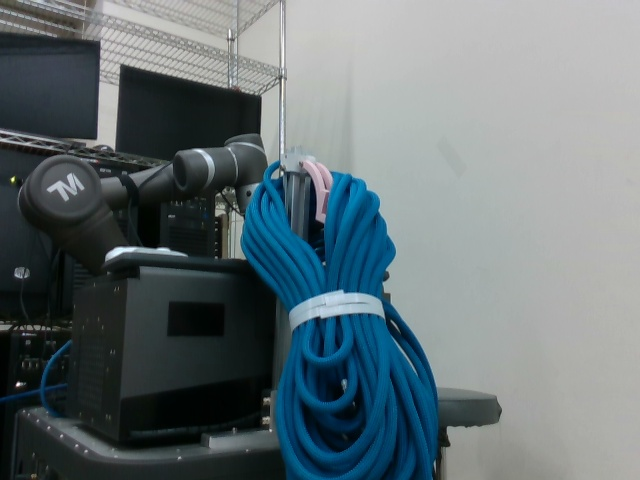rope: (240, 151, 446, 480)
